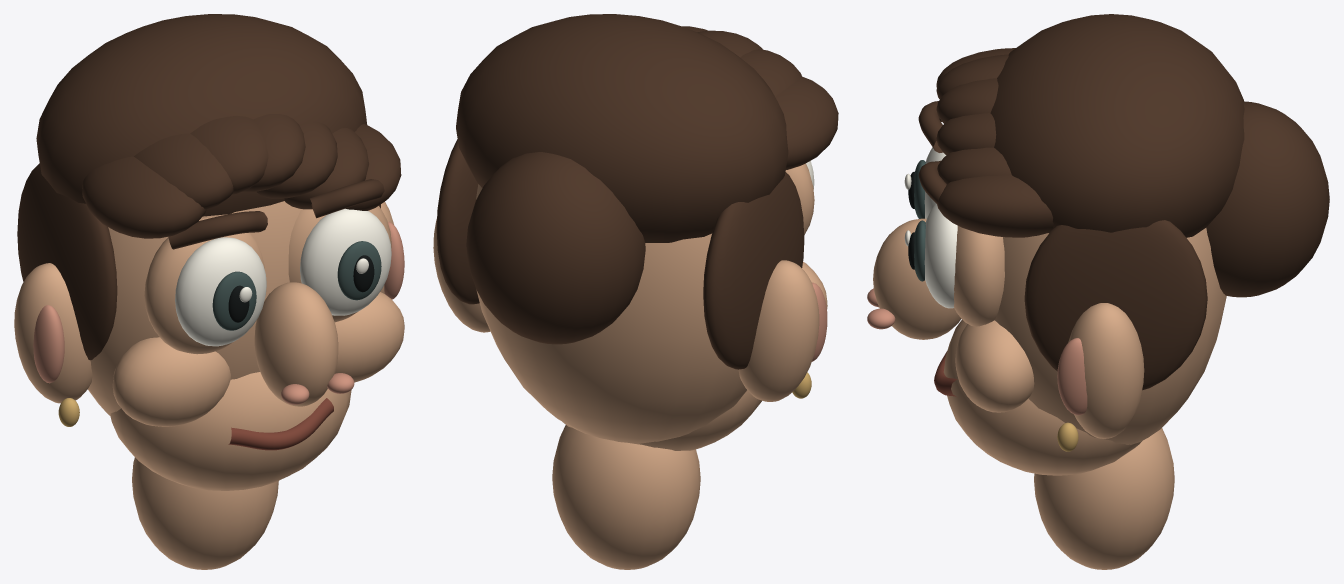
Rendered from artist-female-head.glb.
3 renders of one model, left to right at view 1: azimuth 30°, elevation 25°; view 2: azimuth 150°, elevation 25°; view 3: azimuth 270°, elevation 25°, orthographic.
Parts seen in each view (by area): view 1: Bravo Hair.001, Bravo Skin.003, Bravo Eye White.003, Bravo Cheeks.003, Bravo Iris.003, Bravo Mouth.003, Bravo Pupil.003, Bravo Spectacles.003; view 2: Bravo Hair.001, Bravo Skin.003, Bravo Cheeks.003; view 3: Bravo Hair.001, Bravo Skin.003, Bravo Eye White.003, Bravo Cheeks.003, Bravo Iris.003.
Part boxes in pixels (x1,y1,x2,y2): Bravo Hair.001: (17,14,401,360); Bravo Skin.003: (14,201,404,569); Bravo Eye White.003: (175,208,391,346); Bravo Cheeks.003: (33,221,404,404); Bravo Iris.003: (212,241,381,330); Bravo Mouth.003: (228,398,333,450); Bravo Pupil.003: (228,255,374,322); Bravo Spectacles.003: (58,398,79,426); Bravo Hair.001: (436,14,838,369); Bravo Skin.003: (433,163,827,569); Bravo Cheeks.003: (812,282,827,361); Bravo Hair.001: (918,14,1329,390); Bravo Skin.003: (873,218,1226,569); Bravo Eye White.003: (904,147,957,308); Bravo Cheeks.003: (867,288,1087,415); Bravo Iris.003: (914,160,925,281).
Bounding box in the file's own units: 0.3637 × 0.495 × 0.394.
